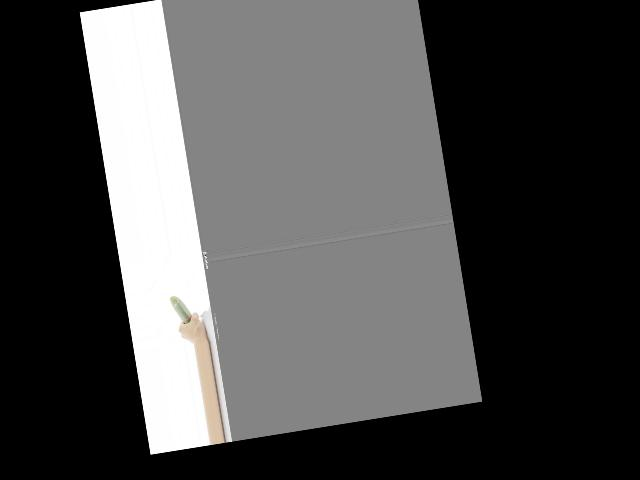cucumber: (169, 293, 193, 325)
